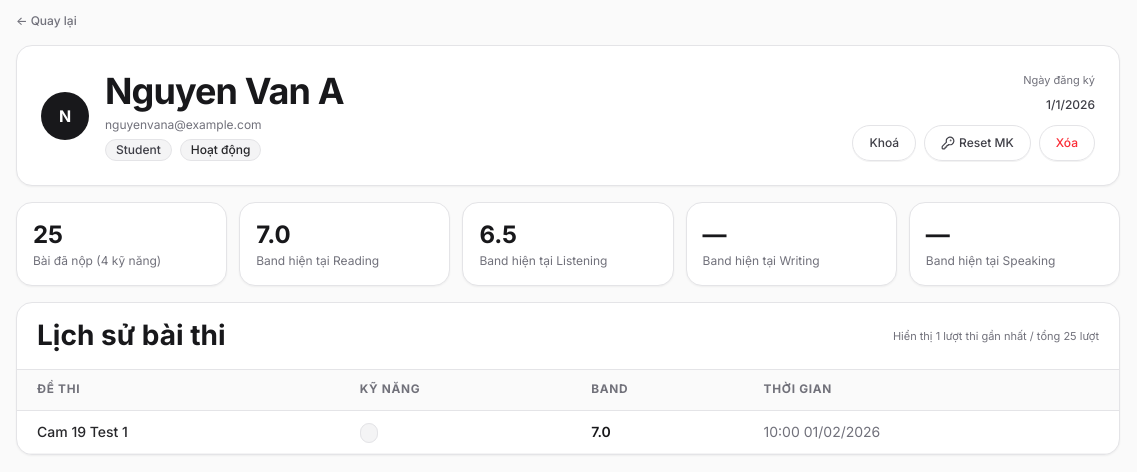
Test: UserDetail — BUG-06 & BUG-07 Action Handlers & Pagination › BUG-07: Khoá/Mở khoá tài khoản gọi đúng API toggleUserLock và cập nhật UI tức thì
This screenshot has width=1137, height=472.
Expected: the text "Hoạt động" is shown, 180,139 -> 261,161
What coordinates should you click on to do the following:
click the button "Khoá"
I would click on:
 (884, 143)
Its box is 852,125 -> 916,161.
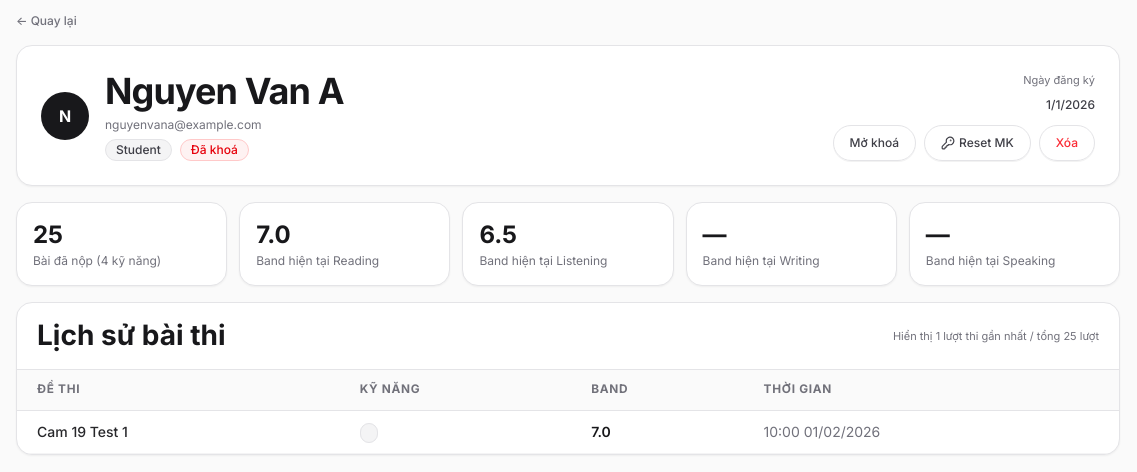
Now the text "Đã khoá" is shown, box 180,139 -> 249,161
Now the button "Mở khoá" is shown, box 833,125 -> 916,161
